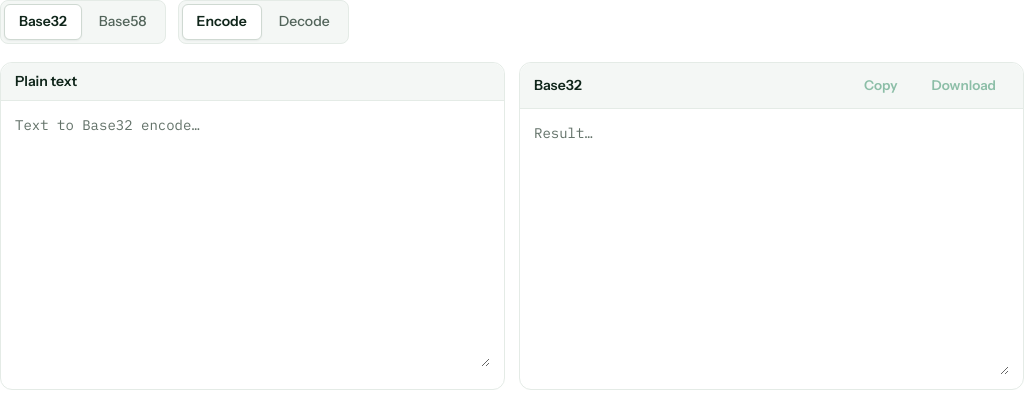
Test: Base58Base32 › Base58 (Bitcoin) › shows error on invalid Base58 character in decode mode
The image size is (1024, 407).
Click the tab "Base58". click: click(123, 22)
box: [84, 4, 162, 40]
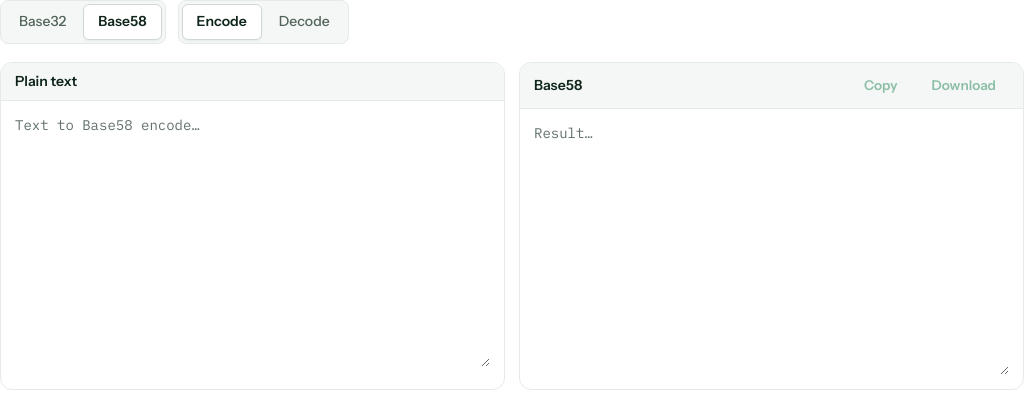
Click the tab "Decode". click: click(304, 22)
box: [264, 4, 345, 40]
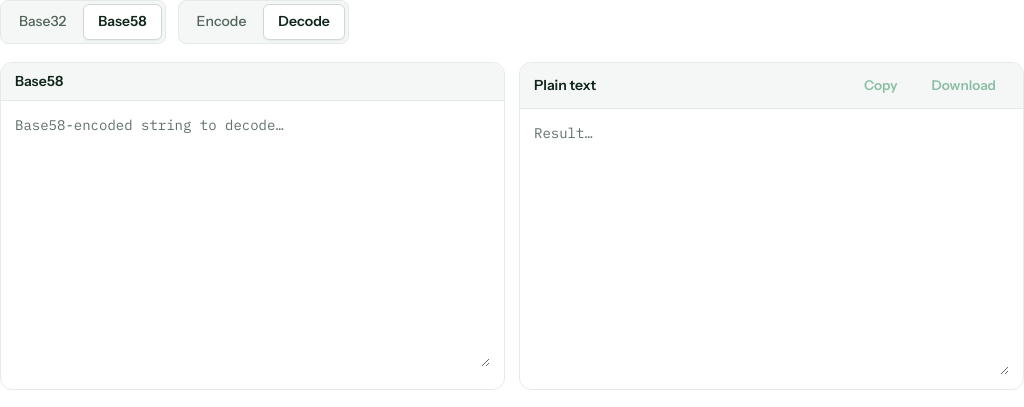
Type "0OIl invalid!!!" into the text box with placeholder "Base58-encoded string to decode…". click: (252, 241)
box: [15, 115, 490, 367]
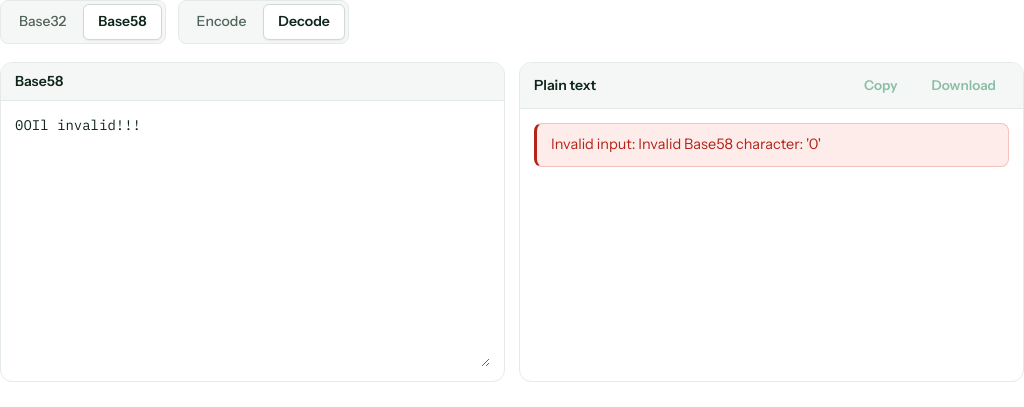
Expected: the text "Invalid input: Invalid Base58 character: '0'" is shown, [534, 123, 1009, 167]
